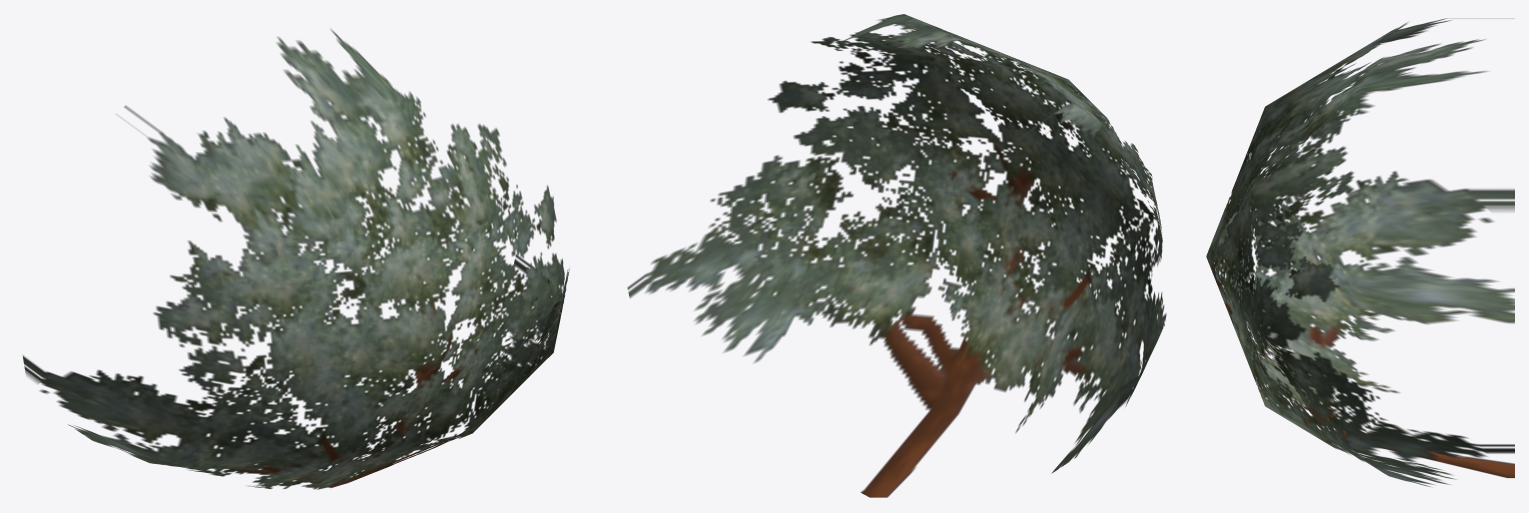
Rendered from treeLP10.glb.
The picture shows the model from 3 angles, left to right: view 1: azimuth 30°, elevation 25°; view 2: azimuth 150°, elevation 25°; view 3: azimuth 270°, elevation 25°; orthographic projection. The views are drawn at different scales.
Parts seen in each view (by area): view 1: Icosphere.001; view 2: Icosphere.001; view 3: Icosphere.001.
Part boxes in pixels (<box>): Icosphere.001: <box>22,29,569,489</box>; Icosphere.001: <box>627,14,1166,497</box>; Icosphere.001: <box>1206,18,1514,486</box>.
Bounding box in the file's own units: 13.76 × 11.37 × 7.24.
1 material, 1 textured.
